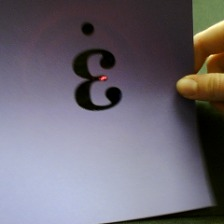violet3: (65, 20, 128, 114)
